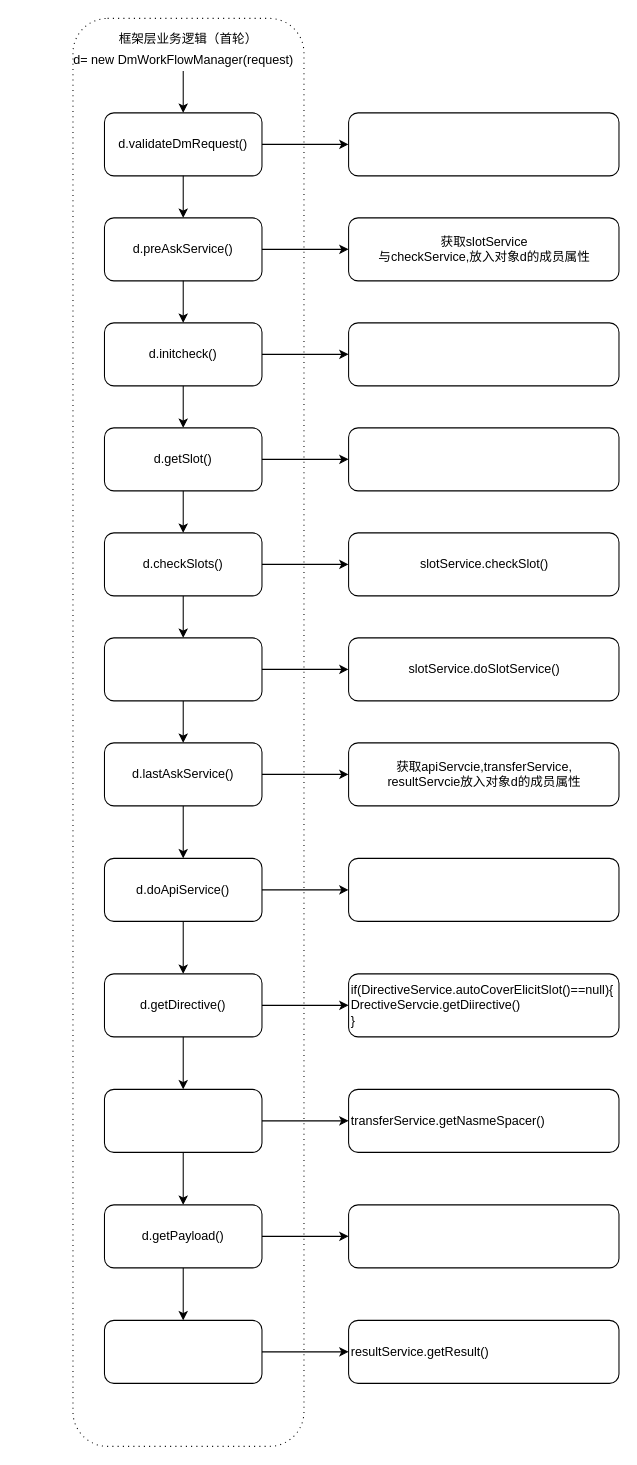
Some shapes in this 637 by 1465 pixel diagram are drawn without their labels. The shapes that lost their labels are listed below. From the top down, each one's centre as x and y in pixels, then its label:
(x=483, y=144): 检测是否缺乏skillName，无则直接返回
(x=483, y=354): if(shouldInitCheck){ checkService.doInitCheck（） }
(x=483, y=459): slotService.getSlots()
(x=182, y=669): d.doSlotService()
(x=483, y=889): if(shouldICallApi){ apiServcie.callApi() }
(x=182, y=1120): d.getNamespace()
(x=483, y=1236): transferService.getNameSpace()
(x=182, y=1351): d.getResult()
